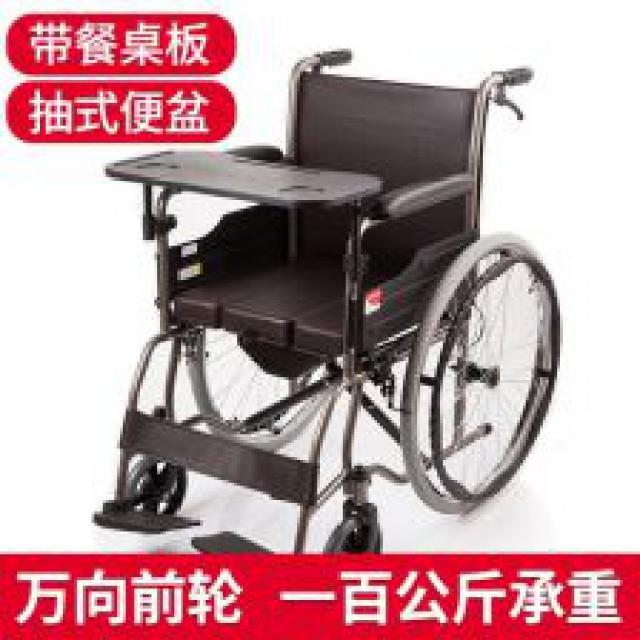wheelchair: (88, 40, 563, 549)
